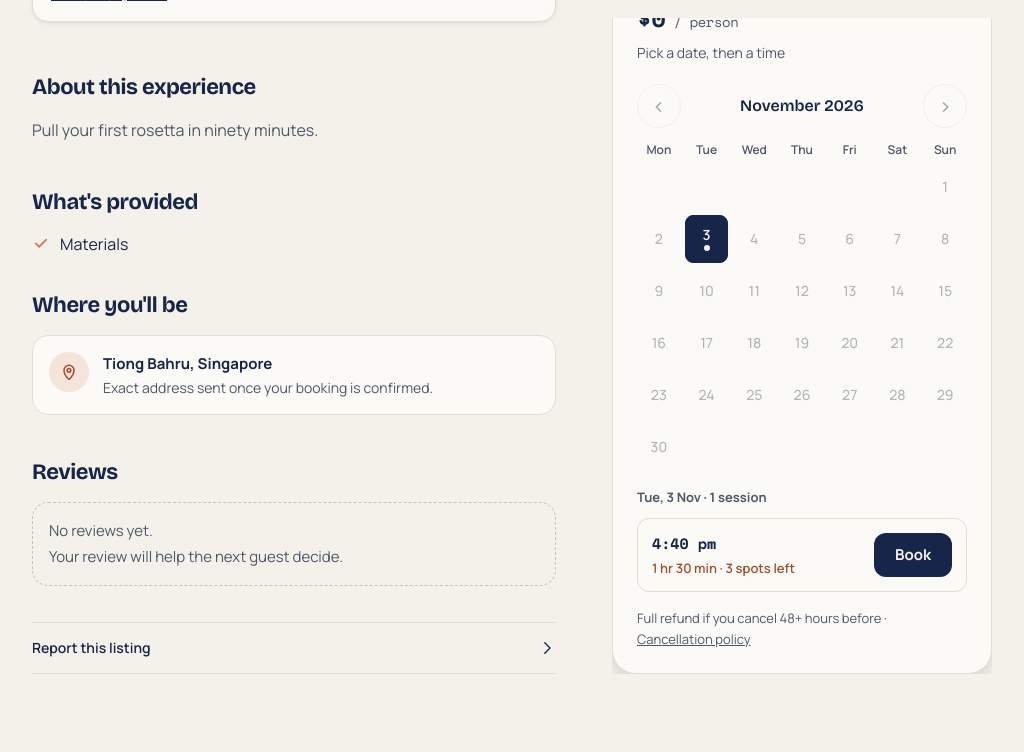
ListingDetail sessions › opens guest cancellation rules from a muted line under the book area
(page scrolled)
Check: the button "Book" is shown, box [874,533,952,577]
Check: the text "Full refund if you cancel 48+ hours before" is shown, box [637,609,887,627]
Click the button "Cancellation policy" at (694, 639), box [637,629,751,650]
(page scrolled)
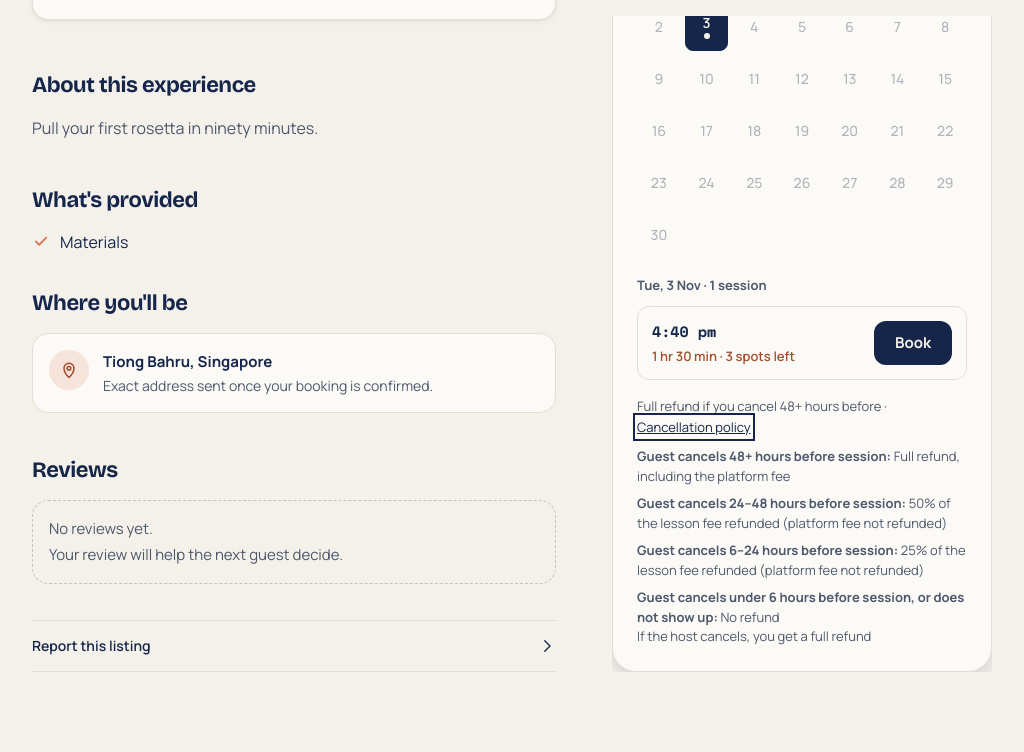
Check: the text "Guest cancels 48+ hours before session:" is shown, box [637,448,891,466]
Check: the text "If the host cancels, you get a full refund" is shown, box [637,628,871,646]
